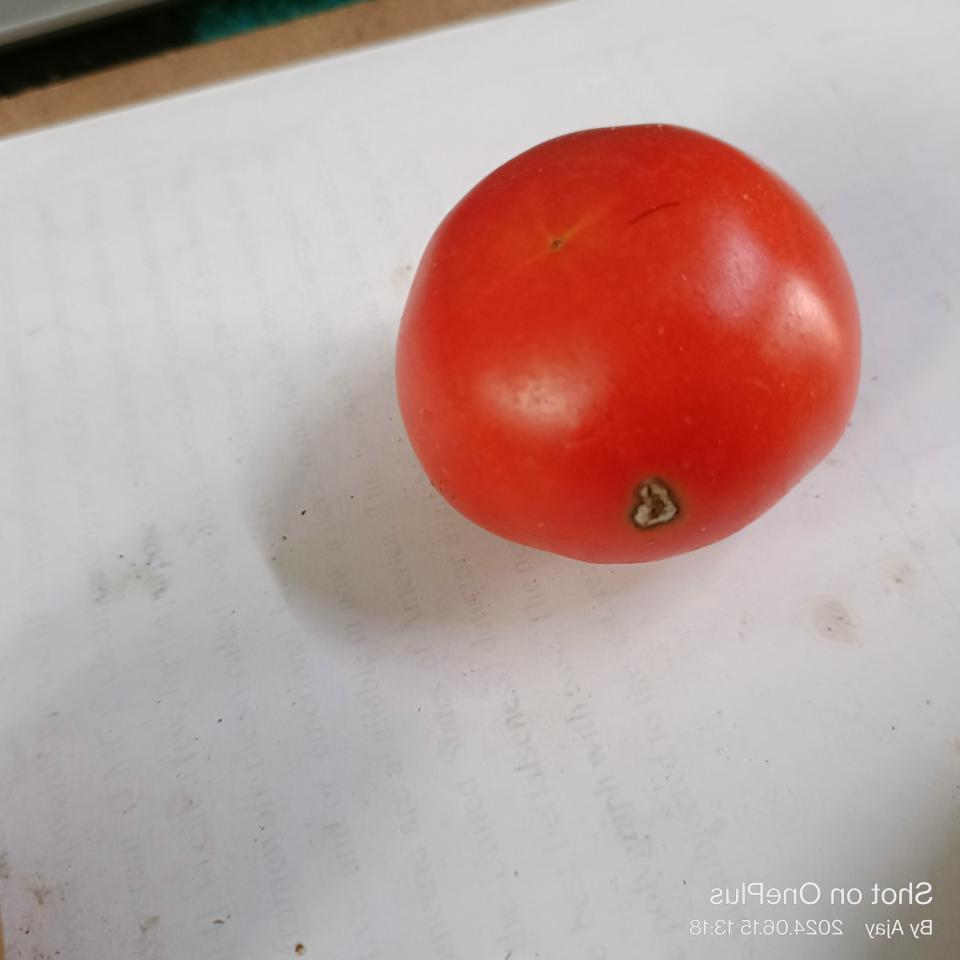Bacterial_Spot: (626, 476, 680, 528)
